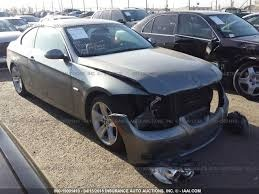Broken-glass: (111, 93, 170, 126)
Dent: (120, 74, 225, 89)
